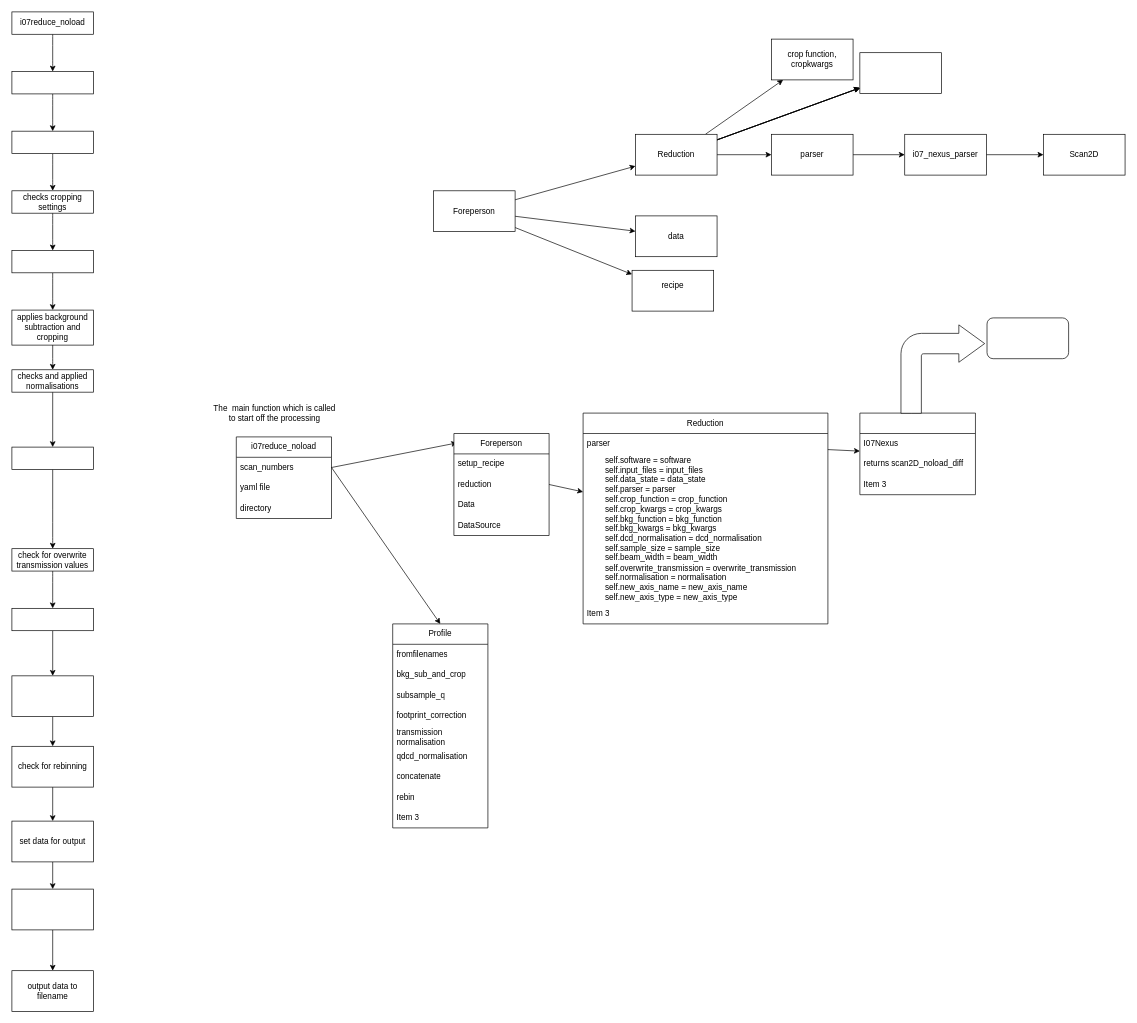
This 1137x1023 diagram has some shape labels left out. Here are the shapes that lost their labels. From the top down, the box of each, then its label:
(11, 71, 94, 94): creates Foreperson
(859, 52, 941, 94): bkg func , bkg kwargs
(11, 130, 94, 154): creates Profile
(11, 250, 94, 273): checks background settings
(986, 317, 1069, 359): scan2D_noload_diff
(11, 446, 94, 469): applies footprint correction
(859, 412, 975, 495): i07_nxs_parser_noload_diff
(11, 608, 94, 631): apply transmission normalisation
(11, 675, 94, 717): check for q_subsampling
(11, 888, 94, 930): create filename
